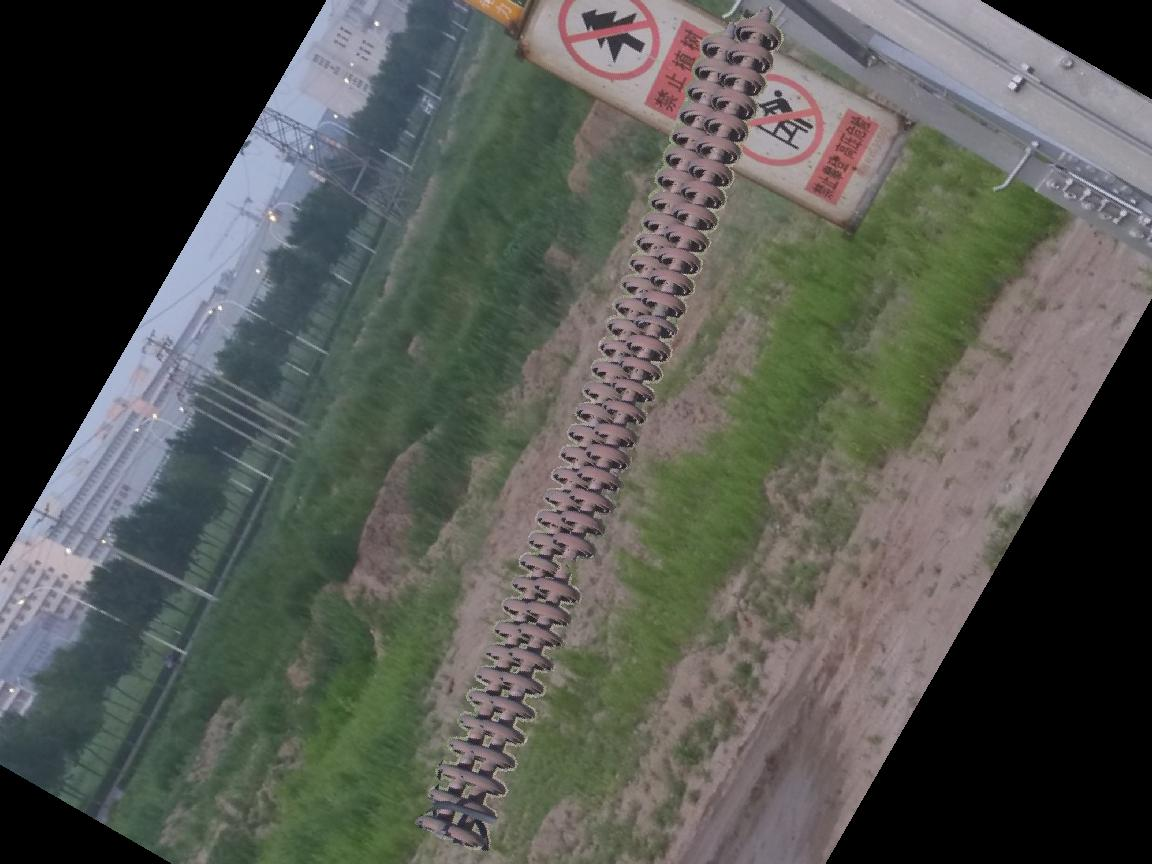insulator: (415, 14, 786, 854)
insulator_stringdrop: (536, 528, 601, 605)
